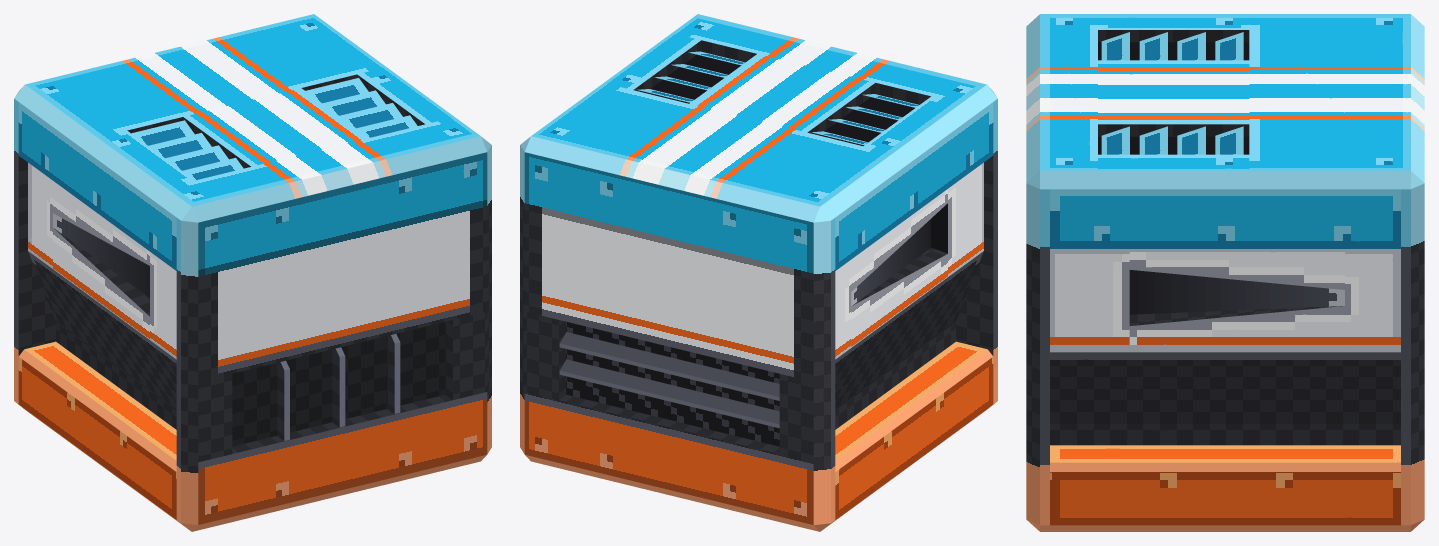
File: aero_b_block.glb
3 renders of one model, left to right at view 1: azimuth 30°, elevation 25°; view 2: azimuth 150°, elevation 25°; view 3: azimuth 270°, elevation 25°, orthographic. The views are drawn at different scales.
Visible parts, largest first — view 1: aero_b_block_body; view 2: aero_b_block_body; view 3: aero_b_block_body.
Part boxes in pixels (x1,y1,x2,y2): aero_b_block_body: [14, 14, 491, 531]; aero_b_block_body: [520, 14, 997, 531]; aero_b_block_body: [1026, 14, 1424, 531].
Bounding box in the file's own units: 1 × 1 × 1.
Materials: 1 (1 with a texture image).
